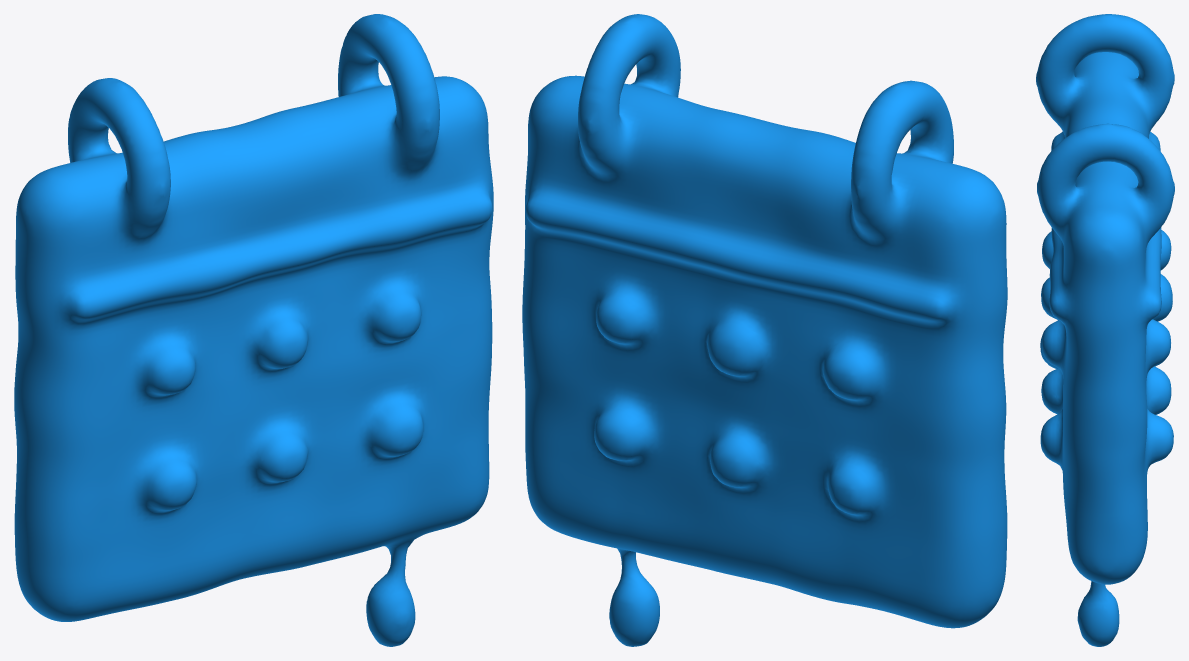
The model's file is scheduling.glb.
The picture shows the model from 3 angles, left to right: view 1: azimuth 30°, elevation 25°; view 2: azimuth 150°, elevation 25°; view 3: azimuth 270°, elevation 25°; orthographic projection. The views are drawn at different scales.
Parts seen in each view (by area): view 1: Halevora_scheduling; view 2: Halevora_scheduling; view 3: Halevora_scheduling.
Boxes of the visible parts, bbox=[...] form: Halevora_scheduling: bbox=[14, 14, 493, 646]; Halevora_scheduling: bbox=[522, 14, 1007, 646]; Halevora_scheduling: bbox=[1036, 14, 1174, 646].
Bounding box in the file's own units: 2.01 × 2.56 × 0.62.
